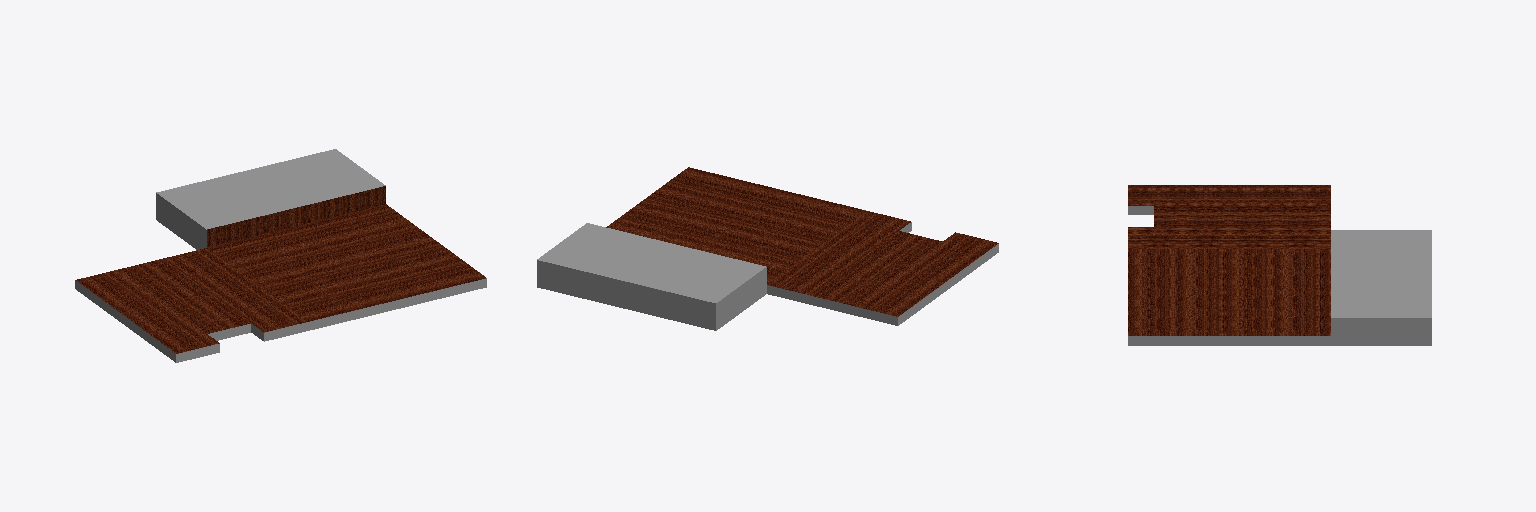
3 views of the same model, side by side, from view 1: azimuth 30°, elevation 25°; view 2: azimuth 150°, elevation 25°; view 3: azimuth 270°, elevation 25° (orthographic).
Visible parts, largest first — view 1: base_Cube.068; view 2: base_Cube.068; view 3: base_Cube.068.
Part boxes in pixels (x1,y1,x2,y2): base_Cube.068: (75, 149, 486, 362); base_Cube.068: (537, 167, 998, 330); base_Cube.068: (1128, 185, 1431, 345).
Size of the model in its own units: 71 by 6 by 60.
4 materials, 1 textured.